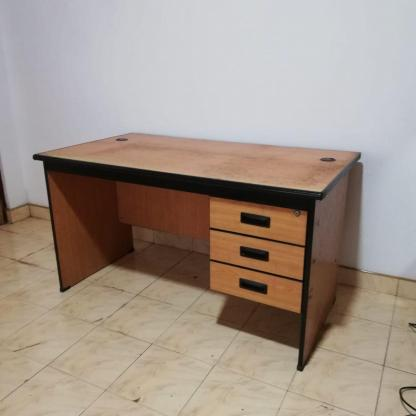Table: (22, 122, 373, 381)
